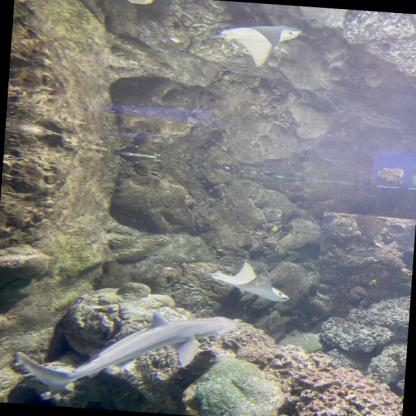shark: (14, 302, 237, 404)
stingray: (218, 20, 301, 69), (209, 259, 291, 307)
